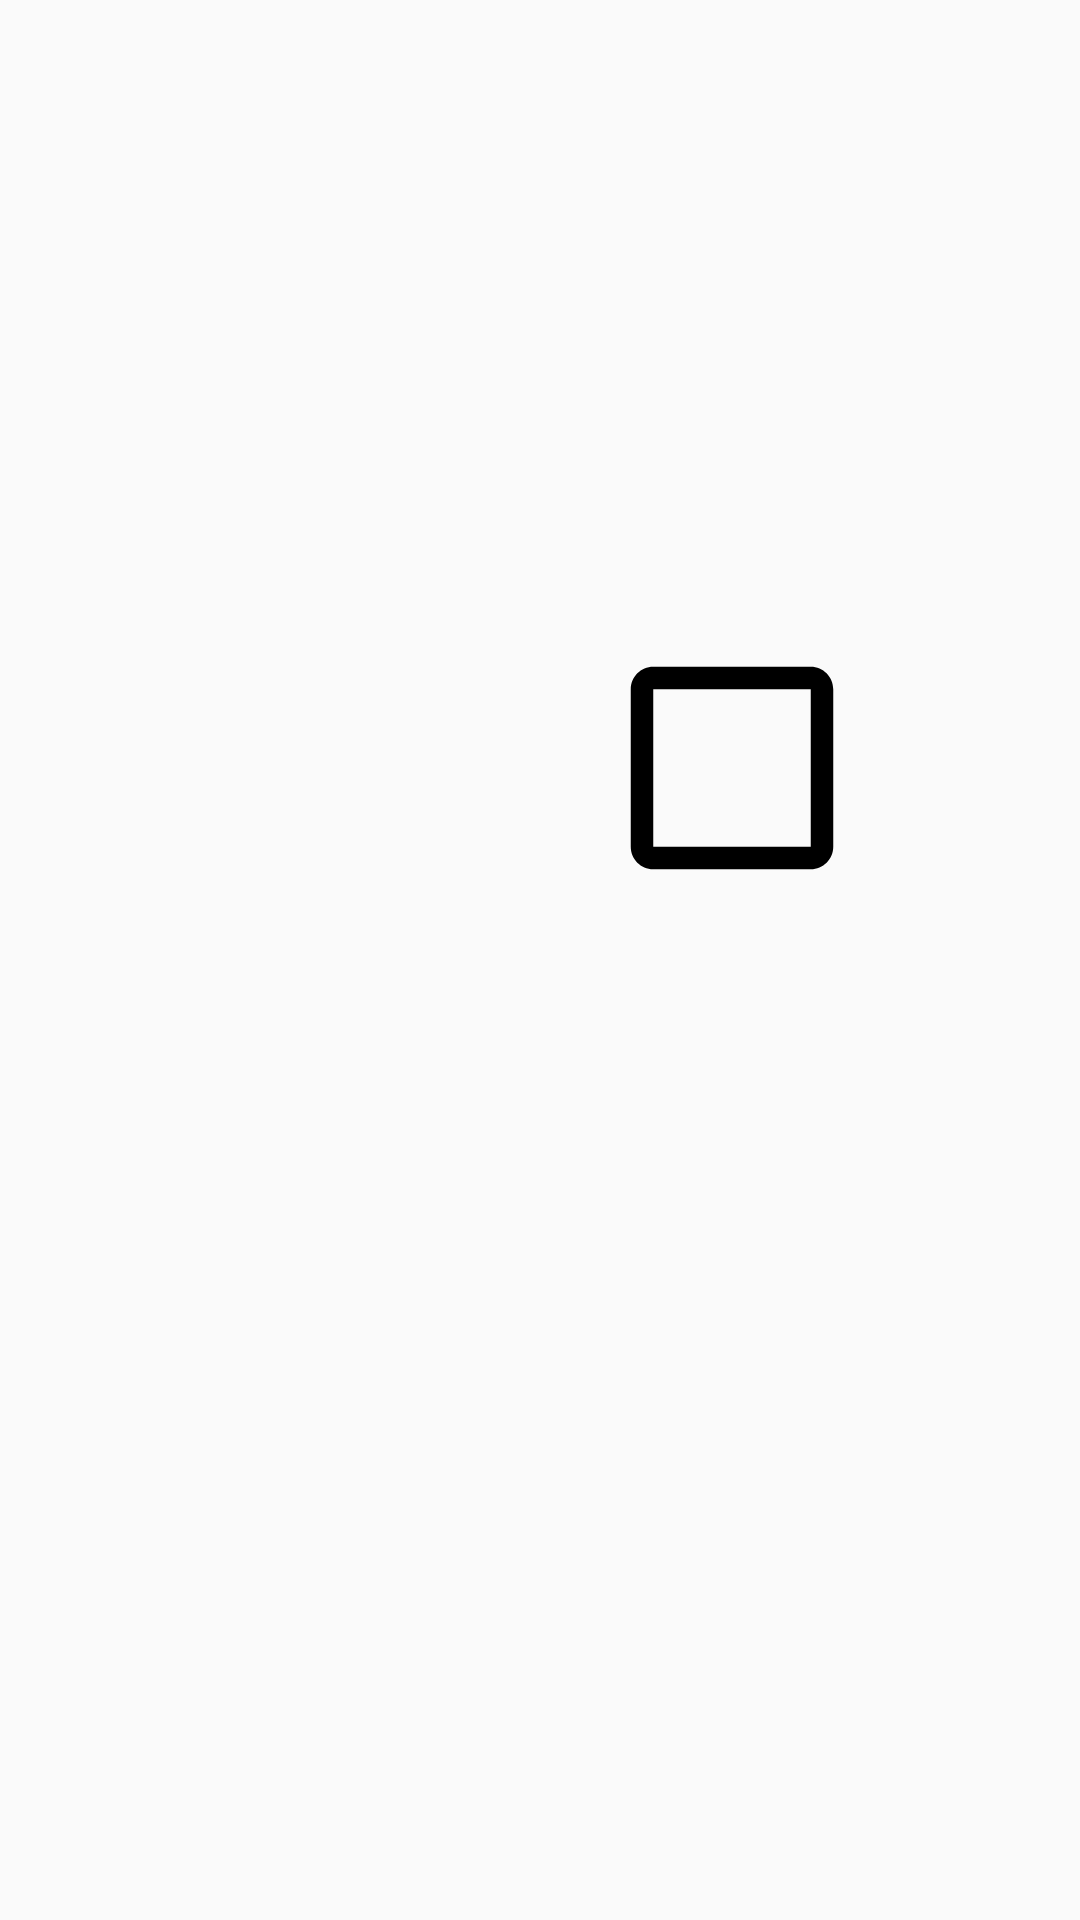

Icons on this 1080×1920 Android screen, each with its box as (x1, y1, x2, y2):
asl widgets checkbox: (630, 666, 834, 870)
